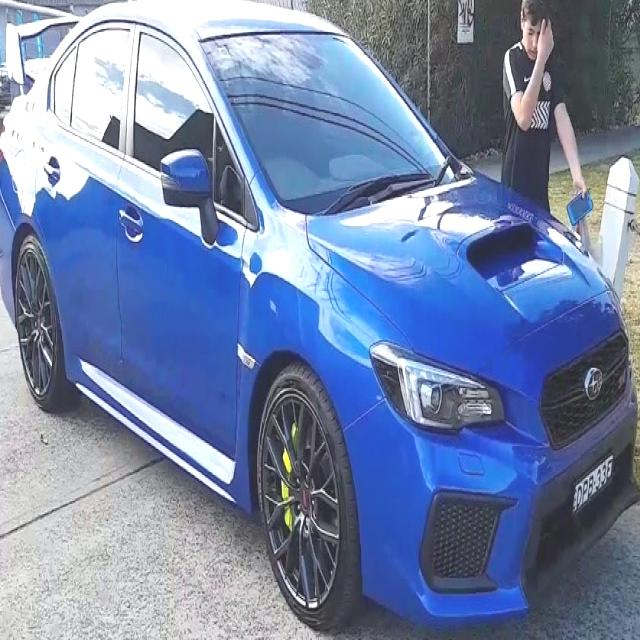blue: (0, 3, 640, 640)
